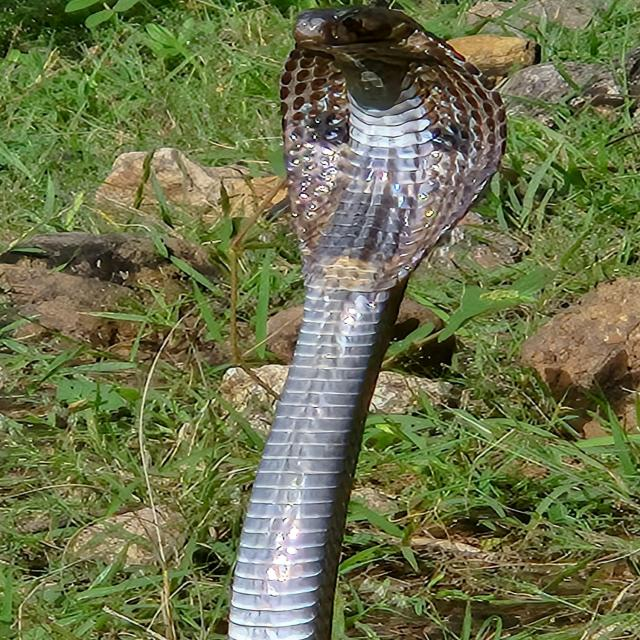Snake: (143, 0, 639, 640)
